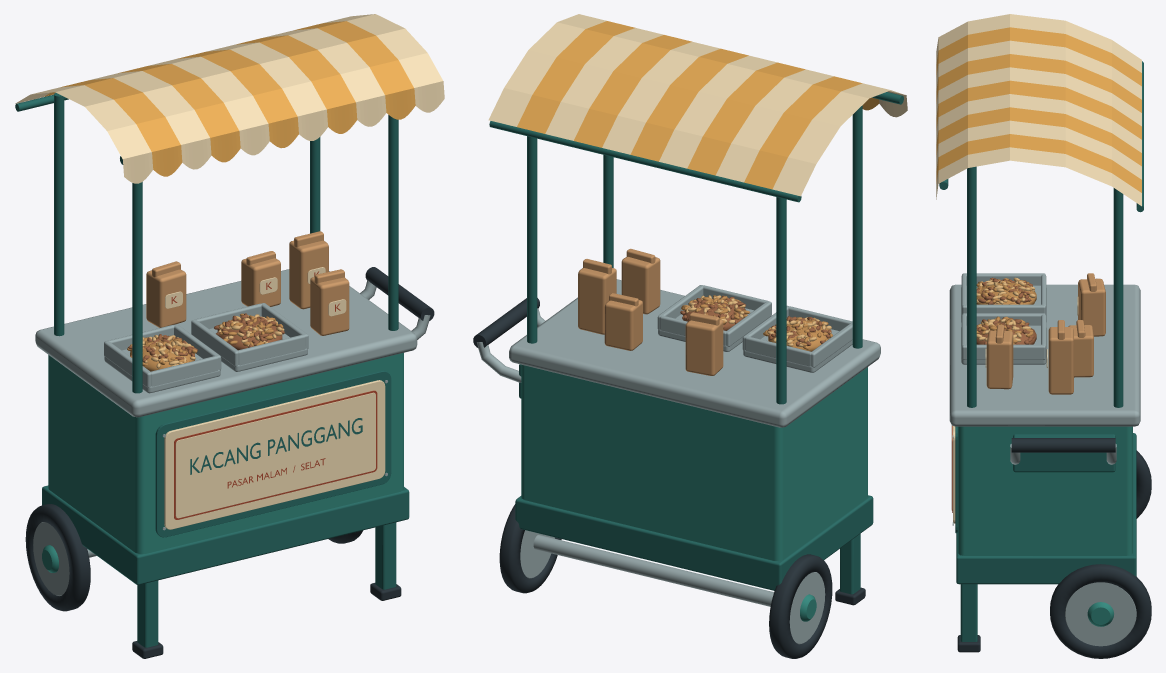
3 views of the same model, side by side, from view 1: azimuth 30°, elevation 25°; view 2: azimuth 150°, elevation 25°; view 3: azimuth 270°, elevation 25° (orthographic). The views are drawn at different scales.
Parts seen in each view (by area): view 1: Striped Canopy, Body, Details, Countertop, Running Gear, Snack Display, Kraft Bags, Canvas Frame, Lettering; view 2: Body, Striped Canopy, Countertop, Running Gear, Canvas Frame, Snack Display, Kraft Bags; view 3: Striped Canopy, Body, Countertop, Running Gear, Snack Display, Kraft Bags, Canvas Frame, Details.
Boxes of the visible parts, x1,y1,x2,y2 form: Striped Canopy: (15,14,444,183); Body: (42,353,409,584); Details: (155,370,391,537); Countertop: (35,269,417,417); Running Gear: (25,267,434,658); Snack Display: (104,303,308,393); Kraft Bags: (146,231,349,335); Canvas Frame: (15,93,398,393); Lettering: (190,418,362,488); Body: (515,364,873,590); Striped Canopy: (488,14,907,196); Countertop: (509,279,880,427); Running Gear: (473,298,865,658); Canvas Frame: (489,92,903,404); Snack Display: (657,285,852,372); Kraft Bags: (578,248,723,375); Striped Canopy: (936,14,1141,206); Body: (956,426,1136,584); Countertop: (949,284,1140,426); Running Gear: (957,434,1151,658); Snack Display: (961,273,1046,364); Kraft Bags: (985,273,1105,394); Canvas Frame: (939,61,1143,407); Details: (951,425,957,533).
Bounding box in the file's own units: 1.29 × 1.9 × 0.732.
